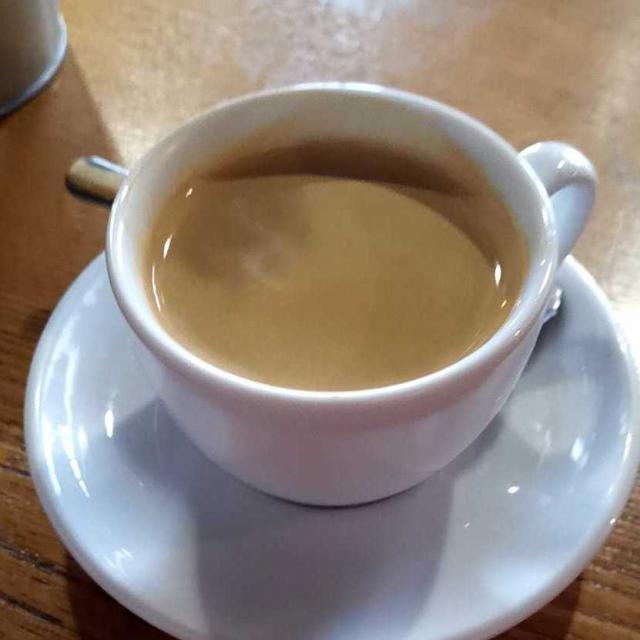coffee: (148, 145, 518, 384)
